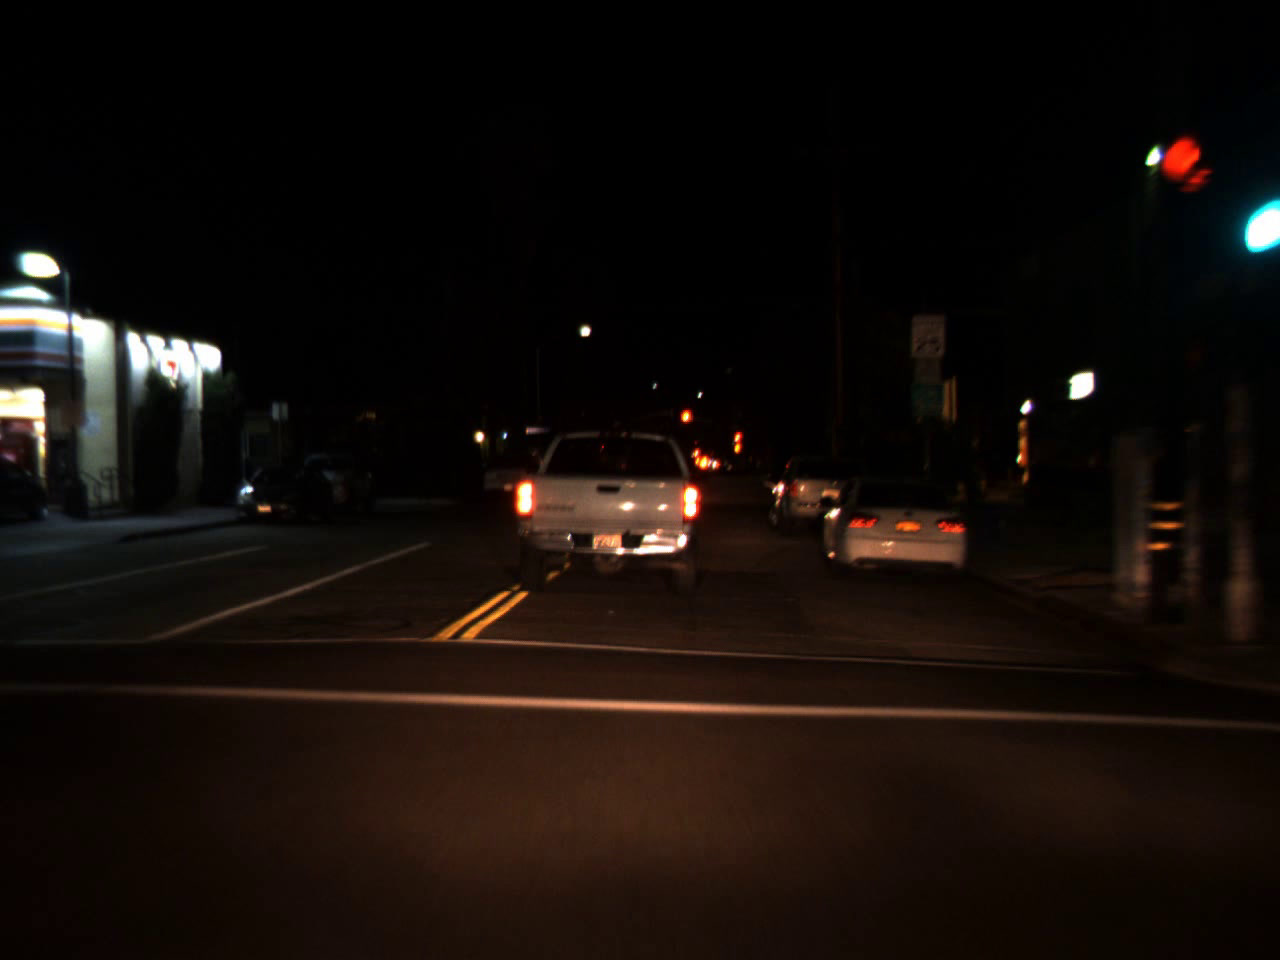go: (1234, 174, 1280, 258)
stop: (679, 408, 692, 437), (732, 430, 742, 454)
